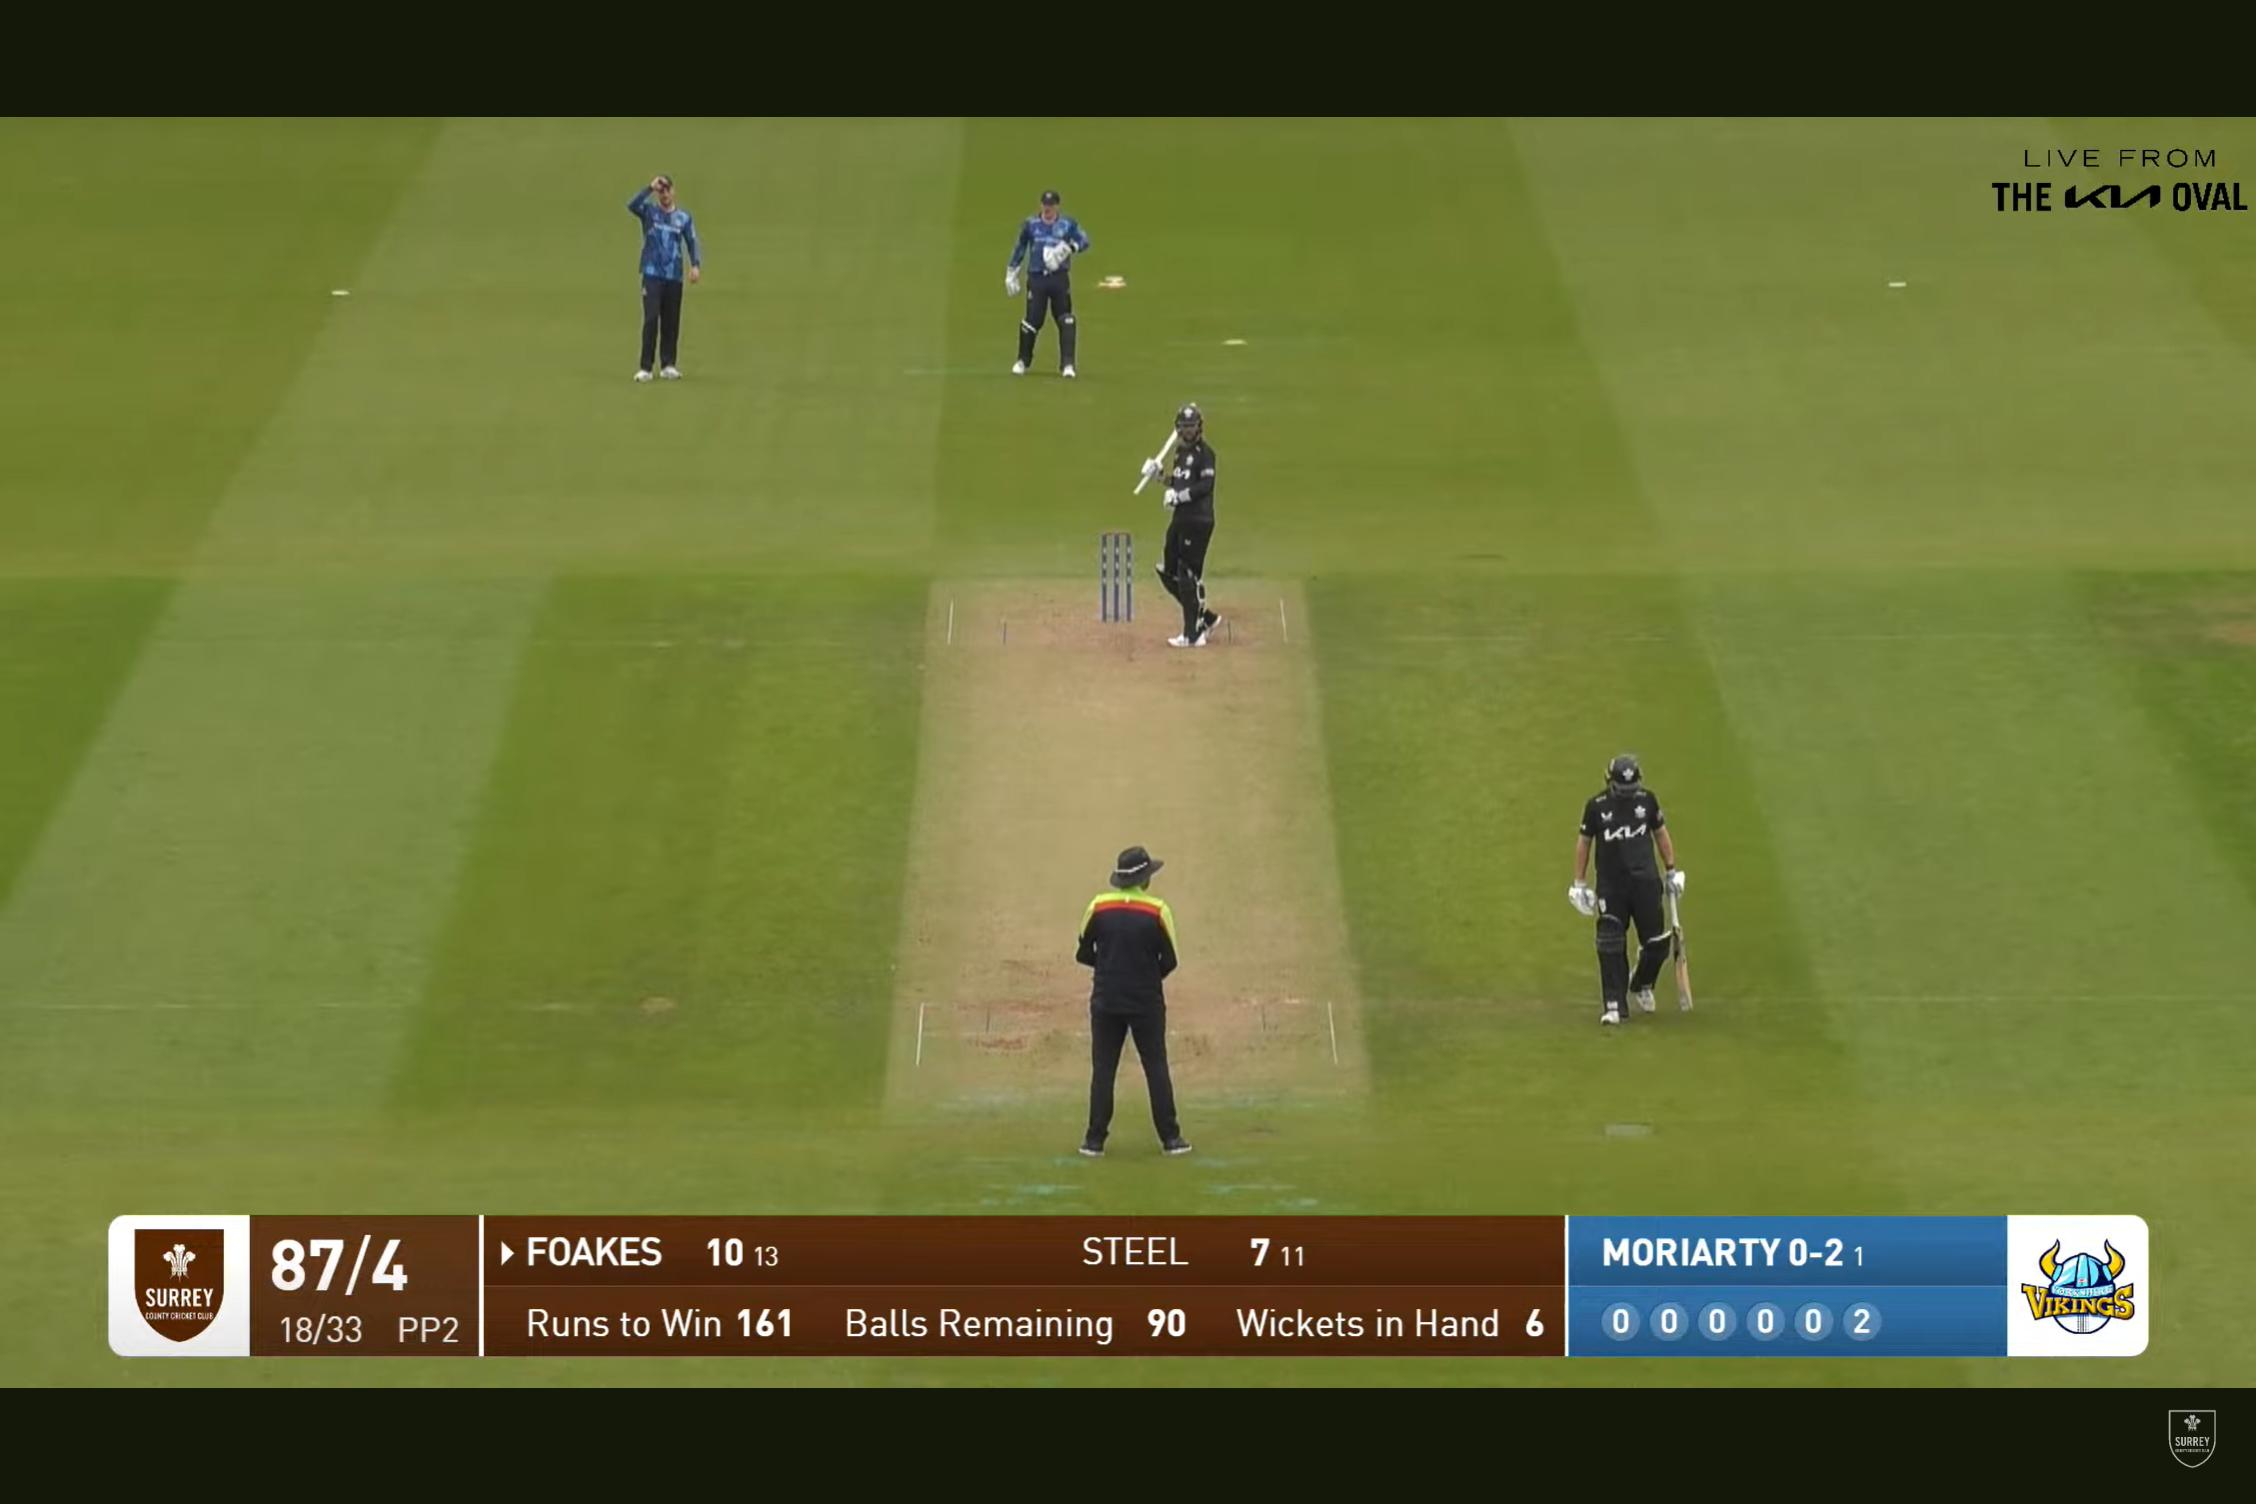batsman: (1151, 383, 1240, 653)
non striker: (1559, 740, 1710, 1042)
stumps: (1088, 529, 1140, 629)
umpire: (1051, 816, 1225, 1178)
wicket keeper: (987, 188, 1108, 381)
